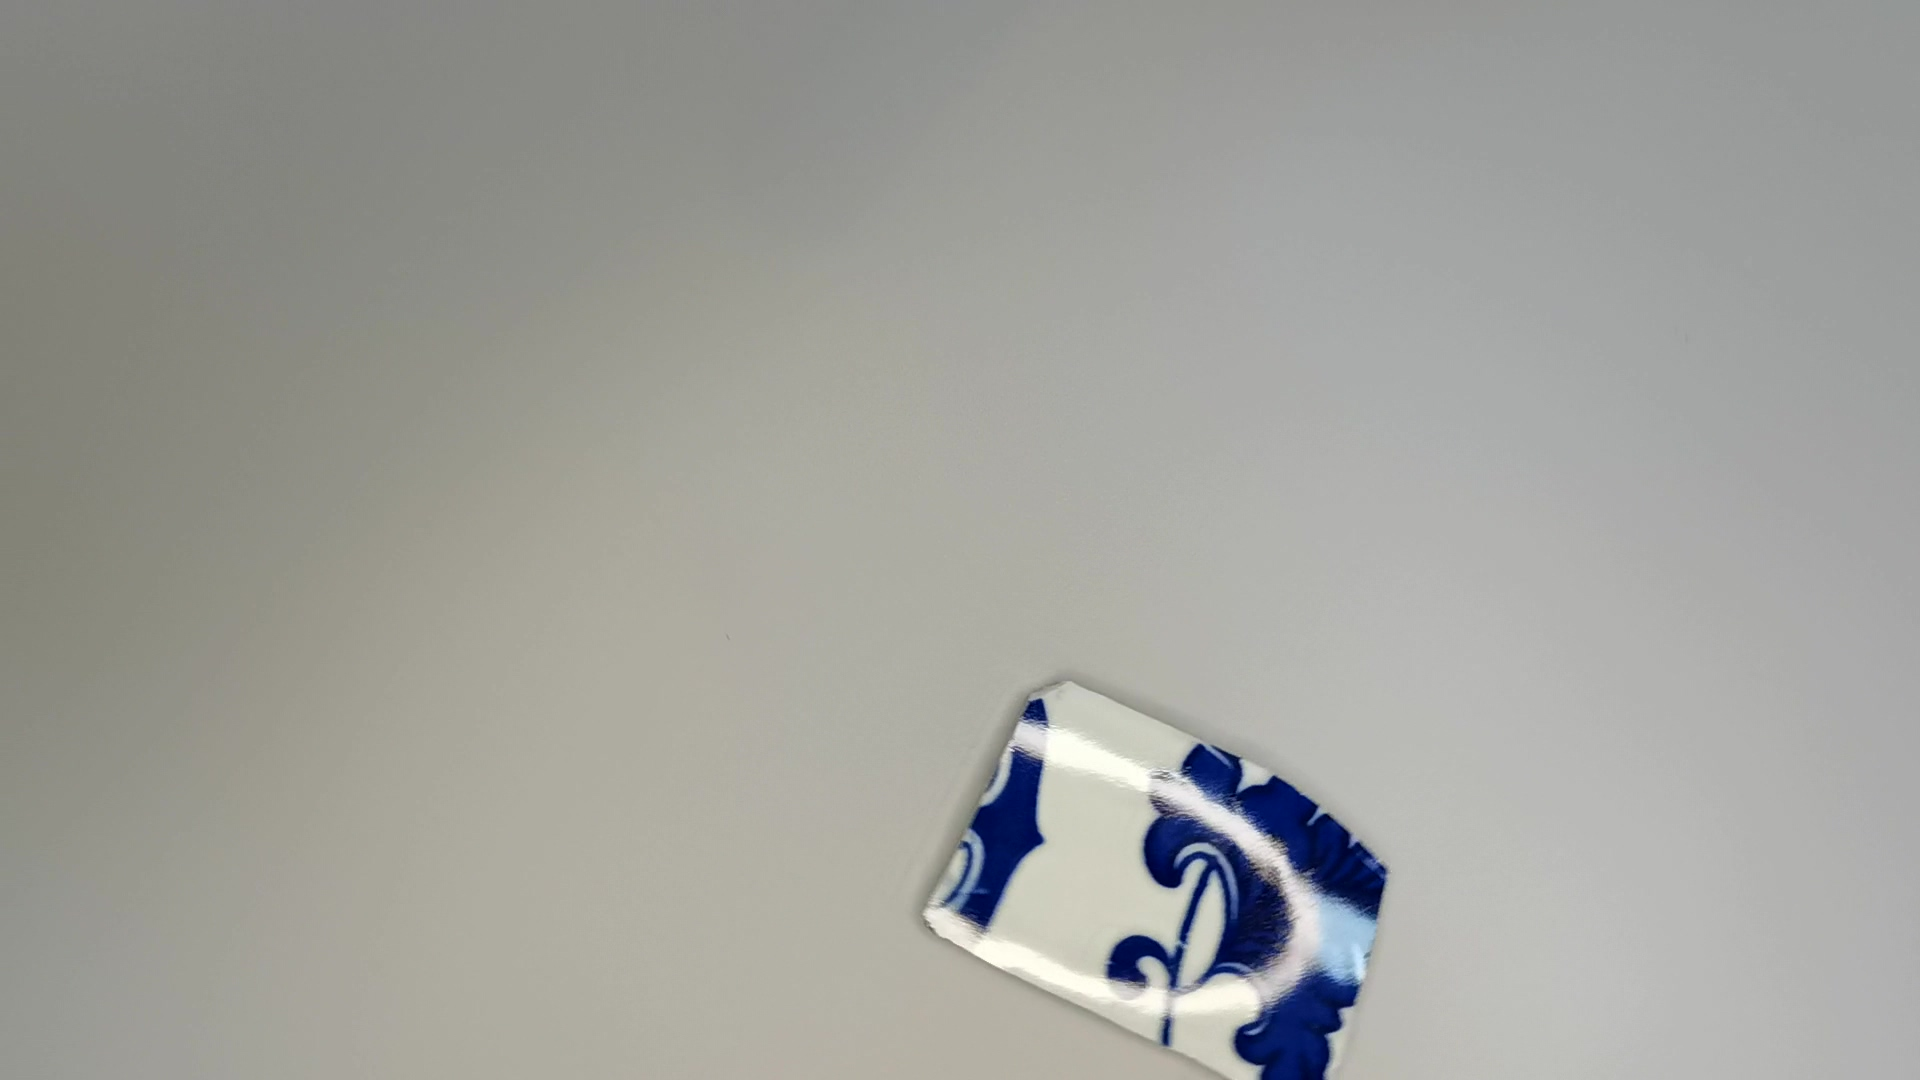ceramic: (913, 671, 1400, 1080)
